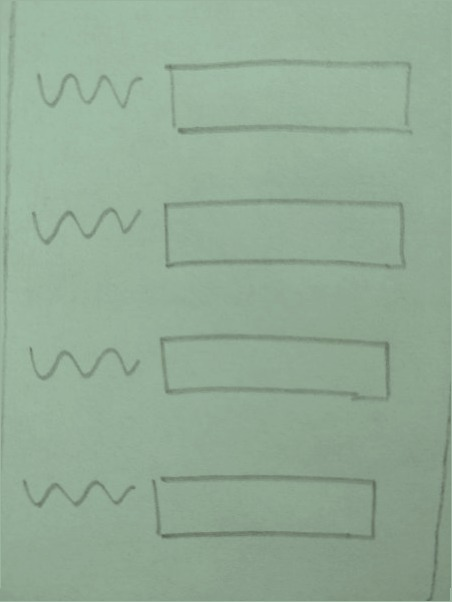text: (18, 333, 144, 386), (15, 463, 141, 516), (25, 197, 145, 251), (32, 64, 142, 118)
text_input: (158, 47, 424, 140), (152, 185, 418, 278), (154, 331, 399, 403), (143, 470, 388, 542)
